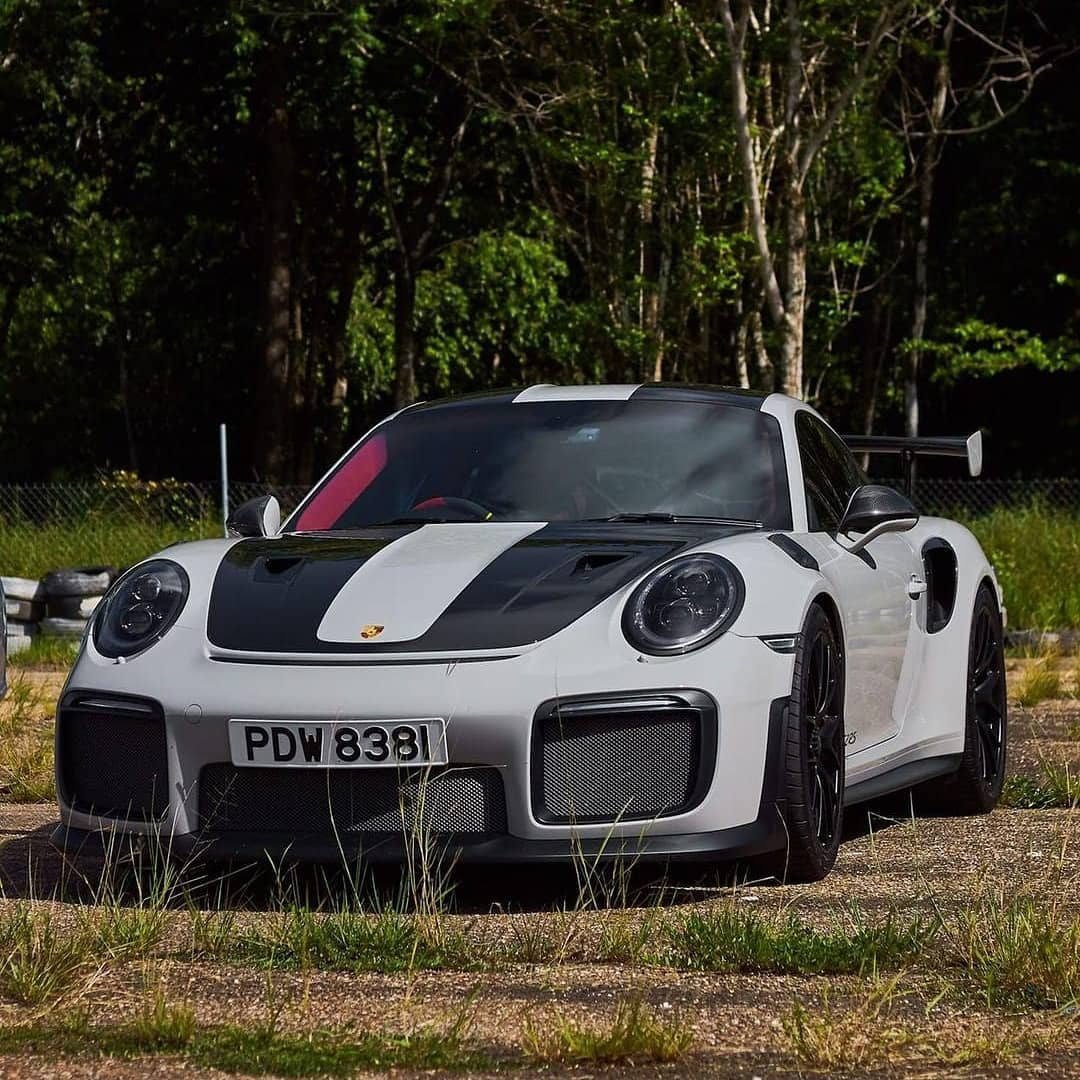License-Plate: (230, 722, 442, 765)
